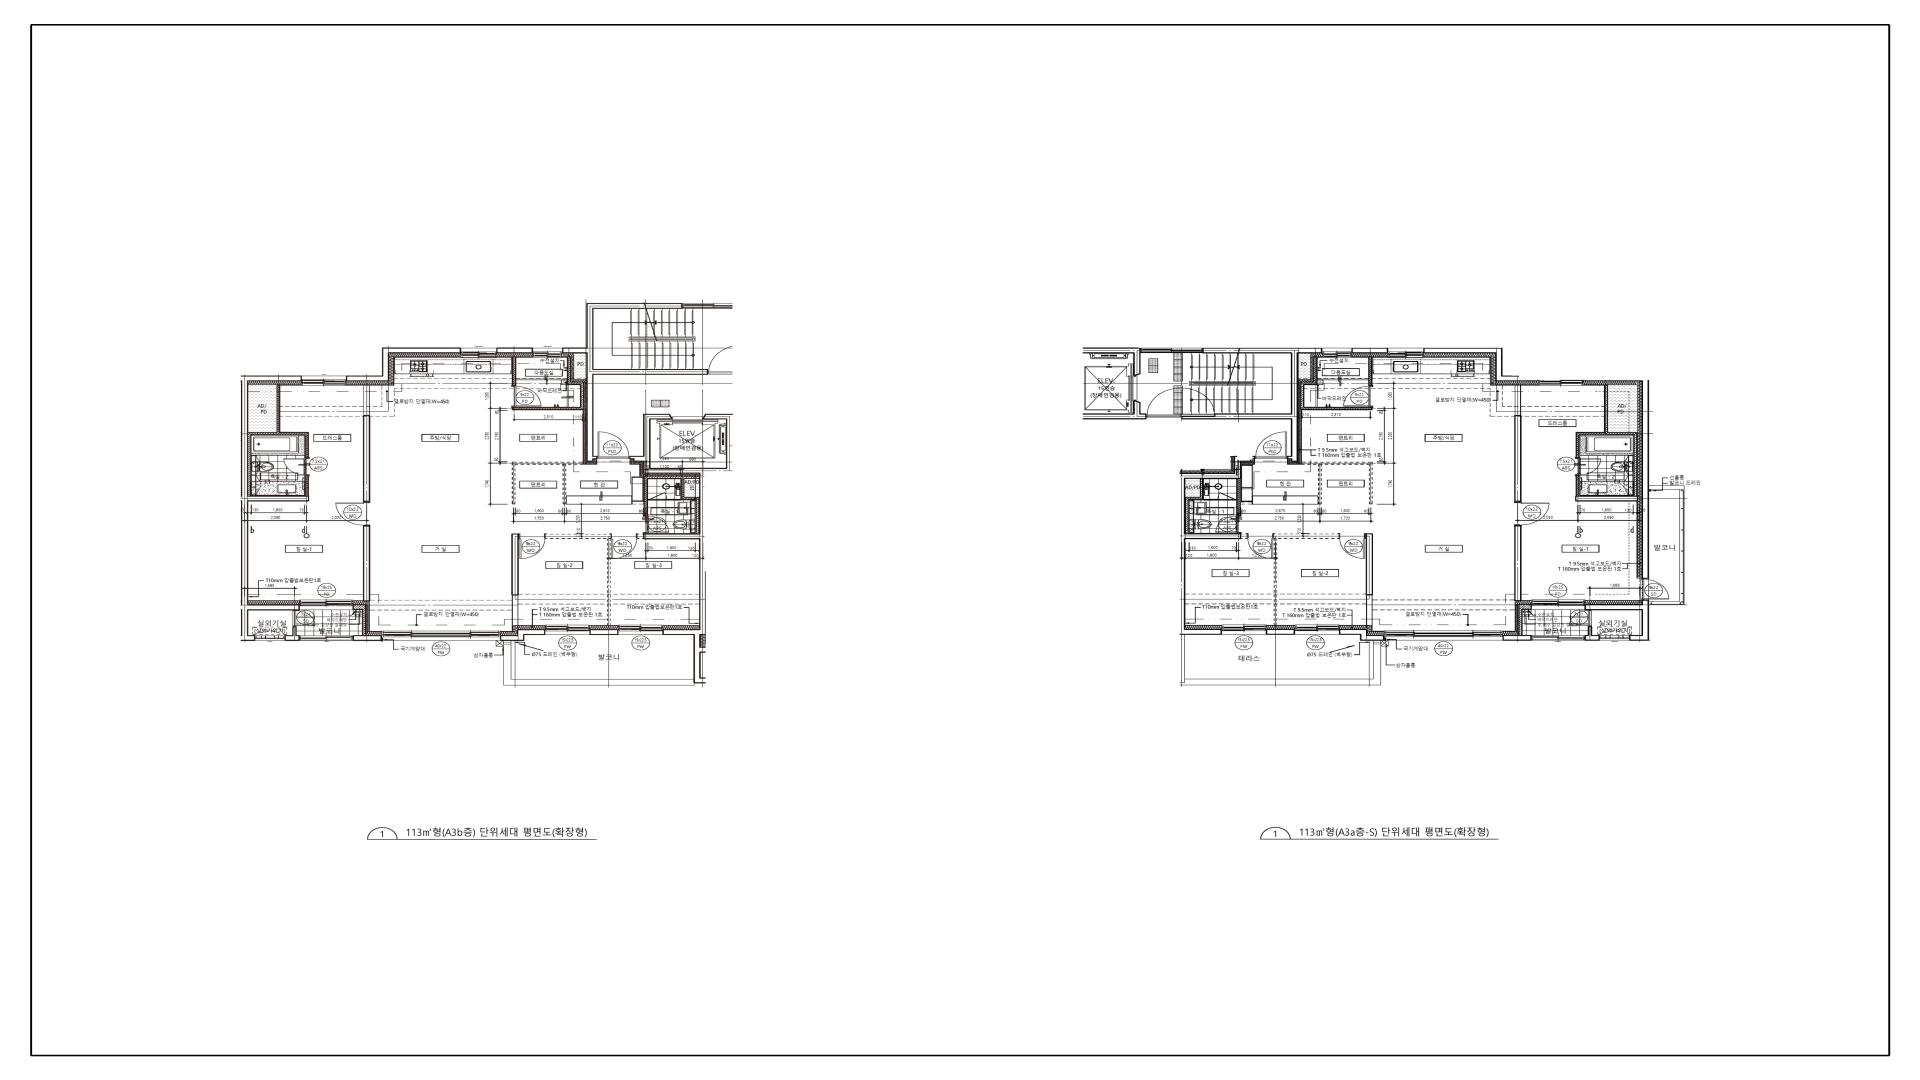door: (1146, 388, 1182, 418), (1255, 431, 1287, 459), (597, 431, 629, 459), (1514, 502, 1549, 526), (335, 502, 371, 525), (1247, 533, 1274, 559), (1338, 534, 1366, 559), (518, 534, 546, 559), (611, 534, 637, 559), (1344, 385, 1373, 407), (512, 386, 542, 407), (1642, 579, 1669, 600), (1215, 514, 1242, 533), (1576, 458, 1602, 476), (644, 516, 670, 533), (284, 458, 309, 475), (1568, 611, 1592, 626), (293, 611, 315, 626), (1217, 492, 1236, 501), (650, 492, 667, 500)
wall: (629, 414, 733, 683), (1582, 376, 1684, 641), (563, 303, 708, 462), (241, 376, 309, 641), (1182, 348, 1321, 462), (1182, 456, 1255, 636), (1576, 385, 1638, 501), (248, 385, 309, 496), (1274, 534, 1338, 626), (546, 534, 611, 625), (1300, 356, 1373, 410), (512, 356, 584, 410), (1424, 348, 1539, 381), (345, 348, 460, 381), (644, 476, 699, 534), (512, 462, 583, 505), (1302, 462, 1373, 505), (1185, 479, 1218, 534), (1083, 347, 1141, 376), (1083, 400, 1146, 419), (363, 385, 371, 502), (1514, 385, 1522, 502), (1366, 534, 1373, 626), (512, 534, 518, 625), (363, 525, 371, 600), (1514, 526, 1522, 601), (500, 629, 546, 641), (1340, 629, 1385, 641), (352, 605, 365, 636), (1519, 604, 1531, 636), (1585, 626, 1600, 641), (285, 626, 299, 641), (1352, 348, 1389, 353), (1236, 479, 1241, 516), (1266, 629, 1295, 636), (589, 629, 618, 636), (1503, 636, 1532, 641), (353, 636, 382, 641), (512, 357, 517, 386), (496, 348, 533, 352), (1369, 356, 1373, 385), (305, 475, 309, 496), (1241, 534, 1247, 539), (637, 534, 644, 539), (644, 533, 649, 534)
window: (1385, 630, 1503, 641), (382, 630, 500, 641), (1531, 600, 1585, 611), (299, 600, 352, 611), (1221, 625, 1267, 636), (302, 376, 347, 386), (1295, 625, 1340, 636), (1539, 376, 1582, 386), (546, 625, 589, 636), (618, 625, 662, 636), (460, 348, 496, 359), (1389, 348, 1424, 359), (1141, 348, 1203, 353), (299, 636, 353, 641), (533, 348, 563, 357), (1321, 348, 1352, 357), (1532, 636, 1585, 641), (1600, 636, 1630, 641), (255, 636, 285, 641)
